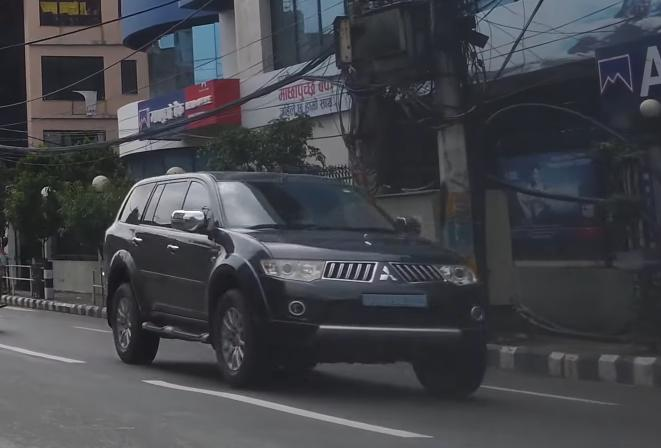SUV: (99, 164, 498, 401)
